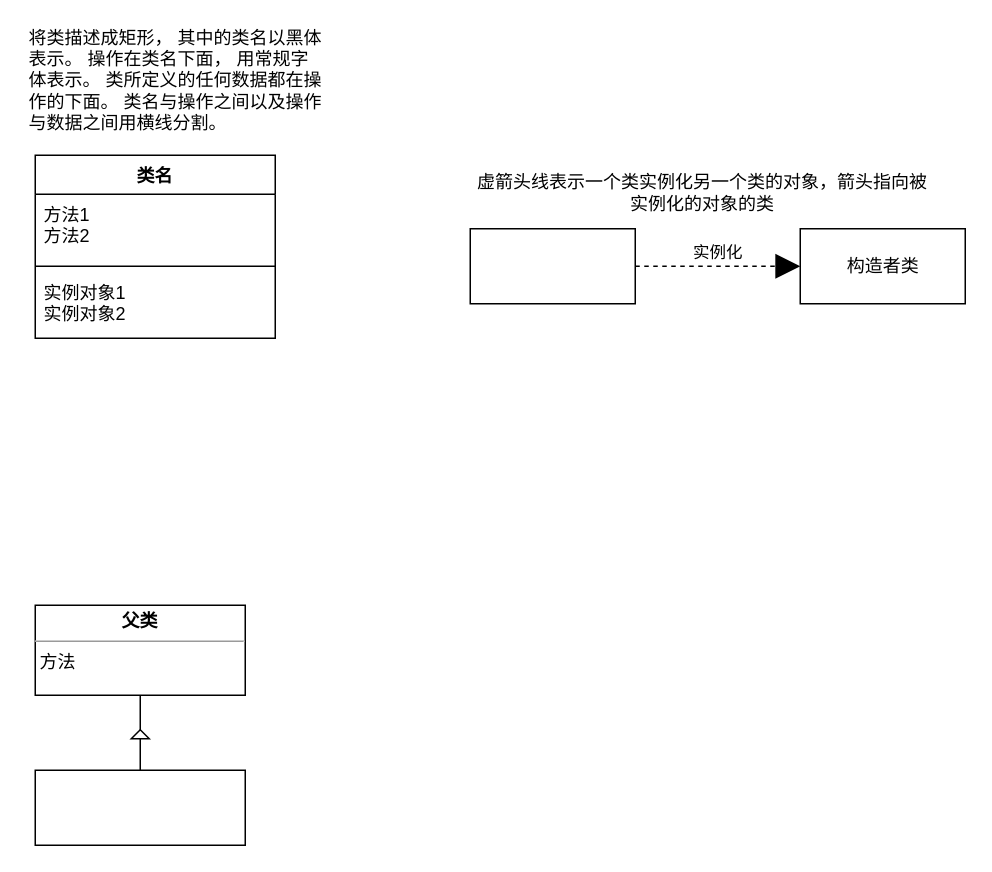
Image size: 992x872. Some labels were removed from this diagram. The shapes that lost their labels are listed below. From the top down, each one's box as (x1, y1, x2, y2) in pixels, then its label:
(469, 227, 635, 304): 构造器类
(34, 769, 245, 845): 子类
